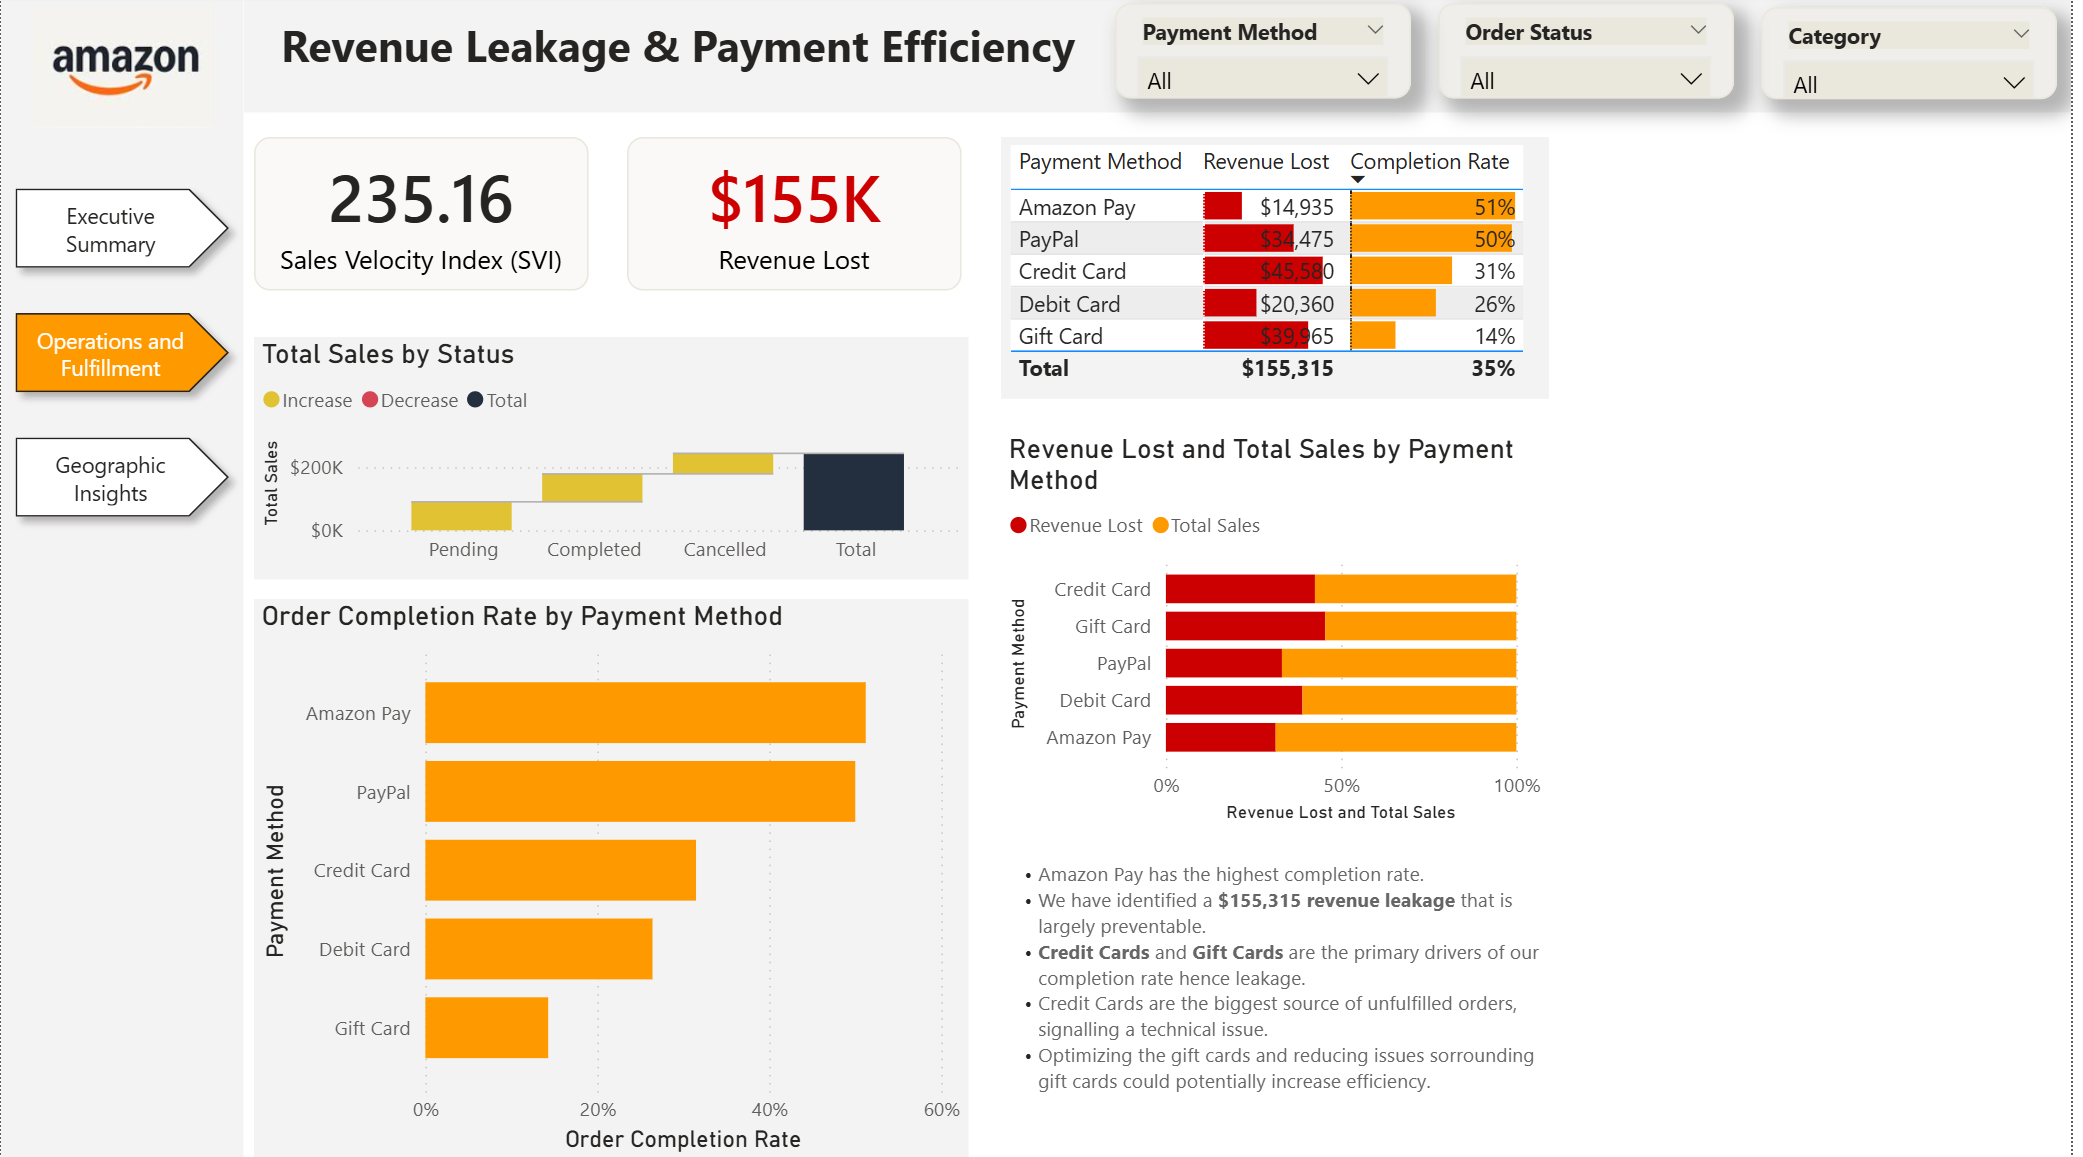

The page's visual inventory and layout, read from the dashboard file:
{"tool":"powerbi","page":{"name":"Operations and Fulfillment","canvas":[1280,720],"ordinal":1},"visuals":[{"type":"shape","box":[0,0,150.2,720],"z":0,"group":"g1"},{"type":"card","fields":{"Values":["fct_sales.Sales Velocity Index (SVI)"]},"box":[156.3,87.2,206.6,94.6],"z":0},{"type":"pageNavigator","box":[0,110.3,150.7,222.8],"z":1000,"group":"g1"},{"type":"waterfallChart","fields":{"Category":["dim_status.Status"],"Y":["Sum(fct_sales.Total Sales)"]},"box":[156.3,210.6,442.1,149.6],"z":1000},{"type":"image","box":[18.3,6.5,113.2,74.6],"z":1500,"group":"g1"},{"type":"clusteredBarChart","fields":{"Category":["dim_payment.Payment Method"],"Y":["fct_sales.Completion Rate"]},"box":[156.3,373,442.1,346.8],"z":2000},{"type":"tableEx","fields":{"Values":["dim_payment.Payment Method","fct_sales.Revenue Lost","fct_sales.Completion Rate"]},"box":[618.5,87.2,338.8,162.3],"z":3000},{"type":"hundredPercentStackedBarChart","fields":{"Category":["dim_payment.Payment Method"],"Y":["fct_sales.Revenue Lost","Sum(fct_sales.Total Sales)"]},"box":[618.5,269.7,338.8,245.5],"z":4000},{"type":"group","id":"g1","title":"Sidebar","box":[0,0,150.7,720],"z":7000},{"type":"shape","box":[150.2,0,1129.8,72.5],"z":8000},{"type":"textbox","box":[168.4,6.7,508.5,65.7],"z":9000},{"type":"slicer","fields":{"Values":["dim_status.Status"]},"box":[888.6,4.4,183.2,59.2],"z":10000},{"type":"slicer","fields":{"Values":["dim_products.Category"]},"box":[1088.7,6.9,183.2,56.7],"z":10250},{"type":"slicer","fields":{"Values":["dim_payment.Payment Method"]},"box":[689.2,4.4,183.2,59.2],"z":10500},{"type":"card","fields":{"Values":["fct_sales.Revenue Lost"]},"box":[387.1,87.2,206.6,94.6],"z":10501},{"type":"textbox","box":[618.5,529.3,344.2,173.1],"z":10502}]}

Visuals, with their boxes in screenshot pixels (x1, y1, x2, y2), scaled from the page's 1280x720 canvas onto the 2083x1157 screenshot:
shape: [left=0, top=0, right=244, bottom=1156]
card - fct_sales.Sales Velocity Index (SVI): [left=254, top=140, right=591, bottom=292]
pageNavigator: [left=0, top=177, right=245, bottom=535]
waterfallChart - dim_status.Status x Sum(fct_sales.Total Sales): [left=254, top=338, right=974, bottom=579]
image: [left=30, top=10, right=214, bottom=130]
clusteredBarChart - dim_payment.Payment Method x fct_sales.Completion Rate: [left=254, top=599, right=974, bottom=1156]
tableEx - dim_payment.Payment Method x fct_sales.Revenue Lost: [left=1007, top=140, right=1558, bottom=401]
hundredPercentStackedBarChart - dim_payment.Payment Method x fct_sales.Revenue Lost: [left=1007, top=433, right=1558, bottom=828]
"Sidebar" group: [left=0, top=0, right=245, bottom=1156]
shape: [left=244, top=0, right=2082, bottom=117]
textbox: [left=274, top=11, right=1102, bottom=116]
slicer - dim_status.Status: [left=1446, top=7, right=1744, bottom=102]
slicer - dim_products.Category: [left=1772, top=11, right=2070, bottom=102]
slicer - dim_payment.Payment Method: [left=1122, top=7, right=1420, bottom=102]
card - fct_sales.Revenue Lost: [left=630, top=140, right=966, bottom=292]
textbox: [left=1007, top=851, right=1567, bottom=1129]
